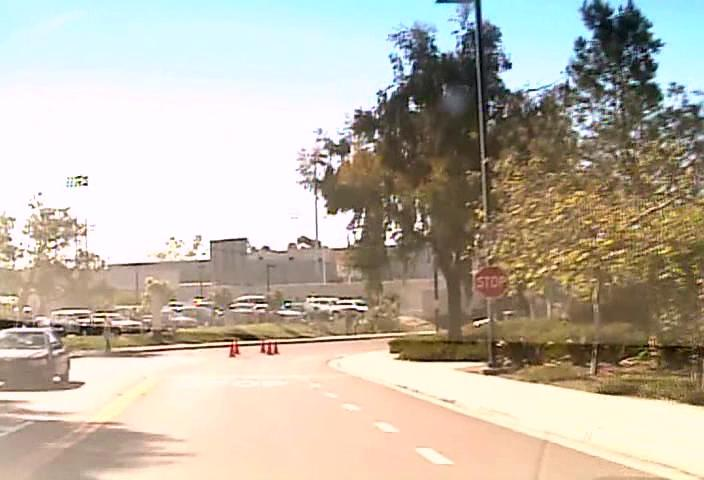stop: (473, 264, 508, 298)
